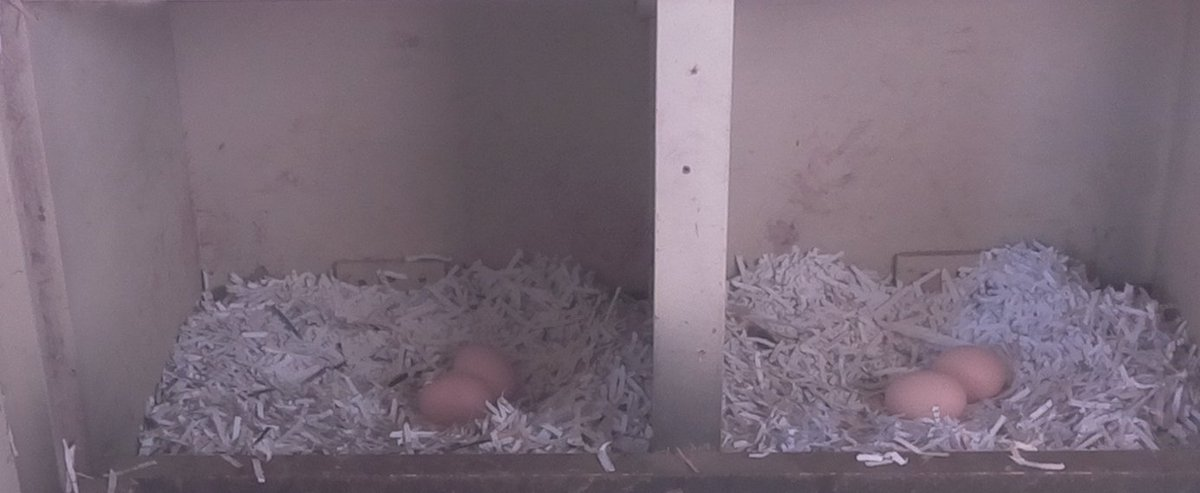egg: (880, 367, 971, 427), (930, 344, 1011, 406), (414, 370, 500, 425), (451, 340, 521, 405)
